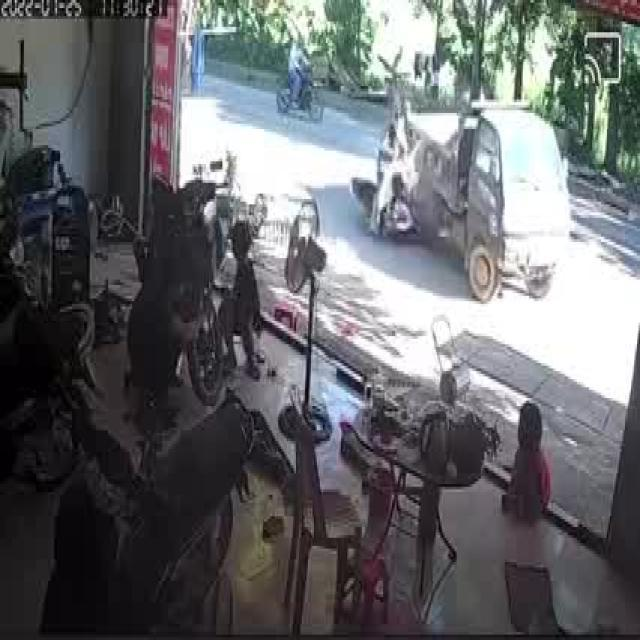multiple_accident: (347, 78, 572, 307)
